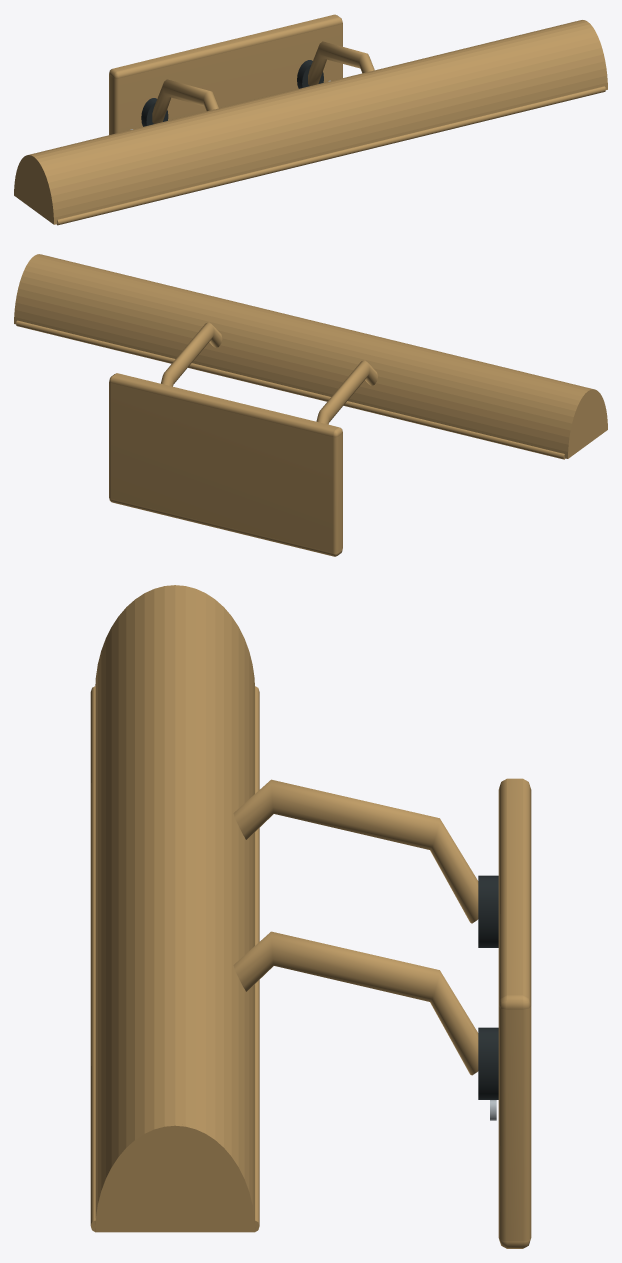
The model's file is art-picture-light.glb.
3 views of the same model, one above another, from view 1: azimuth 30°, elevation 25°; view 2: azimuth 150°, elevation 25°; view 3: azimuth 270°, elevation 25° (orthographic). The views are drawn at different scales.
Parts seen in each view (by area): view 1: catalog_surface_RealismUV, catalog_surface_UVMap; view 2: catalog_surface_RealismUV; view 3: catalog_surface_RealismUV, catalog_surface_UVMap.
Part boxes in pixels (<box>): catalog_surface_RealismUV: <box>14,14,607,225</box>; catalog_surface_UVMap: <box>141,60,323,126</box>; catalog_surface_RealismUV: <box>14,254,607,556</box>; catalog_surface_RealismUV: <box>90,585,531,1248</box>; catalog_surface_UVMap: <box>478,875,498,1099</box>.
Size of the model in its own units: 0.61 by 0.15 by 0.21.
